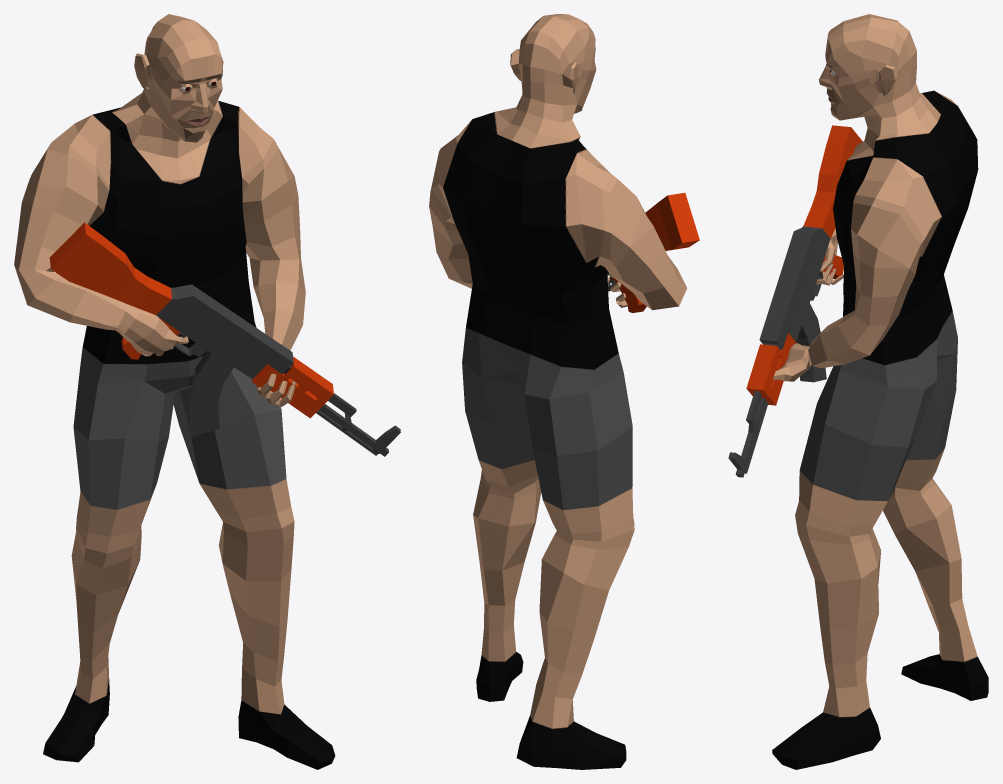
Rendered from PlayerIdle(209).obj.
The picture shows the model from 3 angles, left to right: view 1: azimuth 30°, elevation 25°; view 2: azimuth 150°, elevation 25°; view 3: azimuth 270°, elevation 25°; orthographic projection. The views are drawn at different scales.
Visible parts, largest first — view 1: Plane002, Object001; view 2: Plane002, Object001; view 3: Plane002, Object001.
Boxes of the visible parts, <box> form: Plane002: <box>14,14,335,769</box>; Object001: <box>49,222,400,456</box>; Plane002: <box>429,14,686,769</box>; Object001: <box>607,192,699,312</box>; Plane002: <box>772,14,988,769</box>; Object001: <box>728,125,862,477</box>.
Size of the model in its own units: 750 by 1798 by 606.
